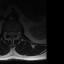CCS_normal: (11, 29, 13, 38)
LFS_normal: (15, 30, 17, 37)
LLS_normal: (13, 29, 15, 37)
RFS_normal: (6, 29, 8, 37)
RLS_normal: (8, 29, 11, 37)
